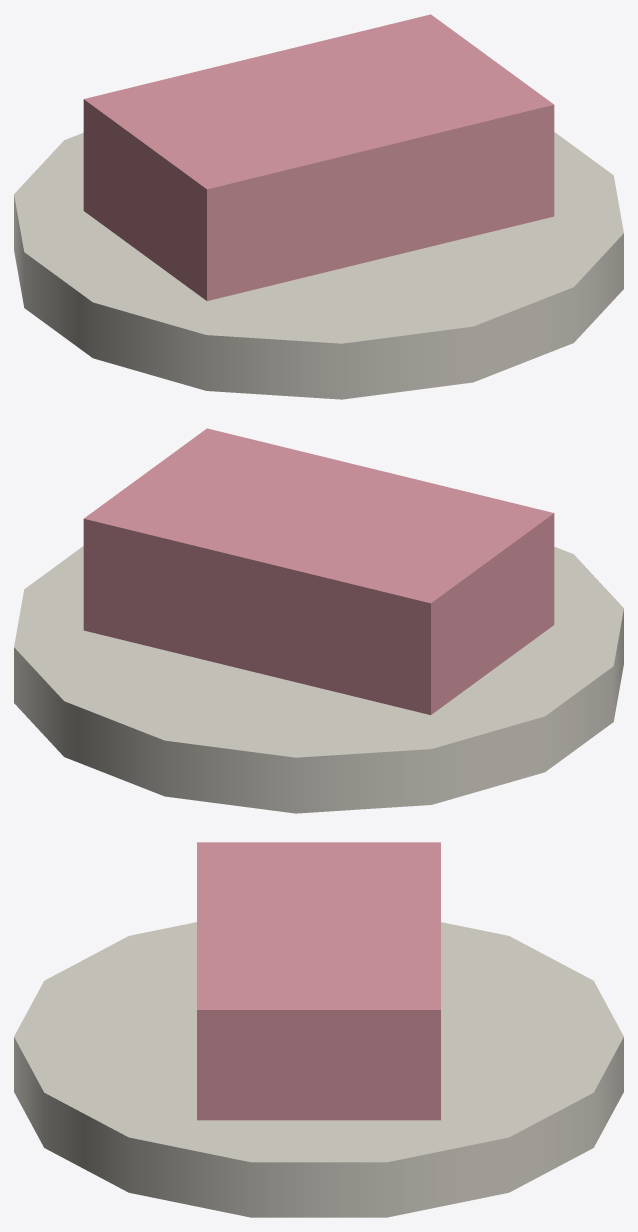
File: soap-is-still-wet.glb
3 renders of one model, top to bottom at view 1: azimuth 30°, elevation 25°; view 2: azimuth 150°, elevation 25°; view 3: azimuth 270°, elevation 25°, orthographic.
Bounding box in the file's own units: 0.39 × 0.12 × 0.4.
